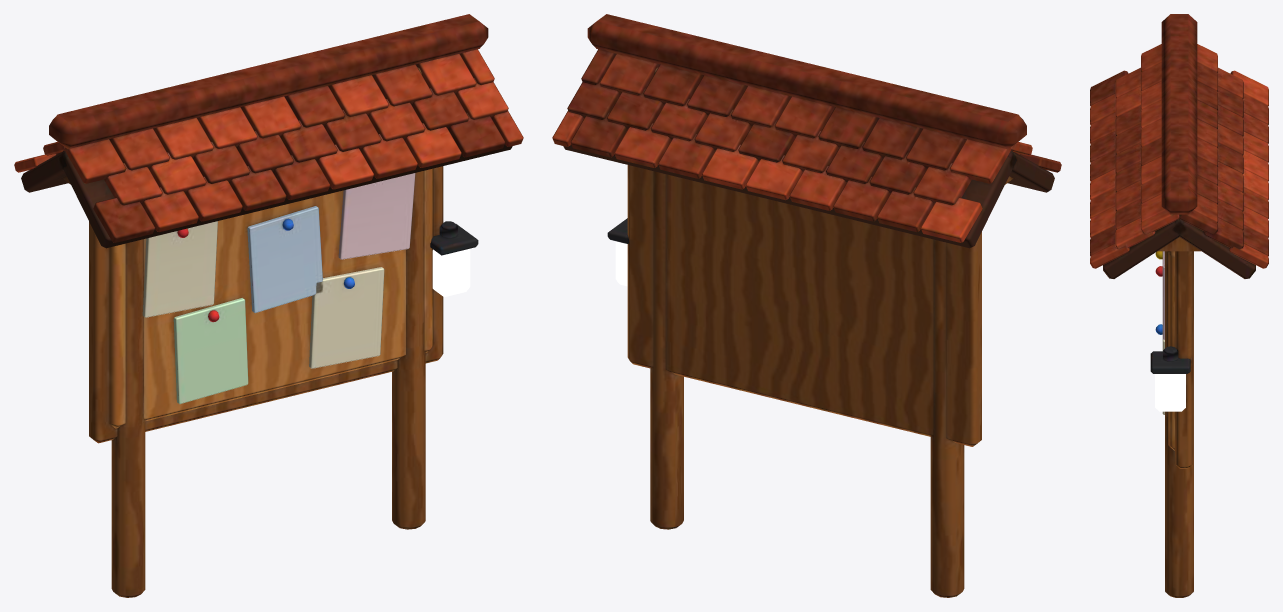
Rendered from board.glb.
The picture shows the model from 3 angles, left to right: view 1: azimuth 30°, elevation 25°; view 2: azimuth 150°, elevation 25°; view 3: azimuth 270°, elevation 25°; orthographic projection. The views are drawn at different scales.
Visible parts, largest first — view 1: board; view 2: board; view 3: board.
Part boxes in pixels (bbox=[...]): board: bbox=[14, 14, 523, 597]; board: bbox=[552, 14, 1061, 597]; board: bbox=[1090, 14, 1268, 597].
Bounding box in the file's own units: 0.98 × 1.07 × 0.4025.
Materials: 1 (1 with a texture image).
